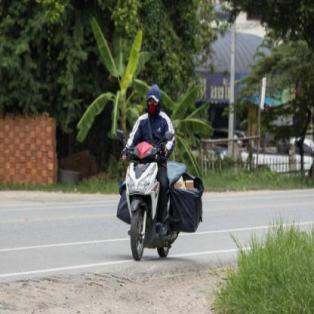Motocicleta: (116, 130, 188, 264)
